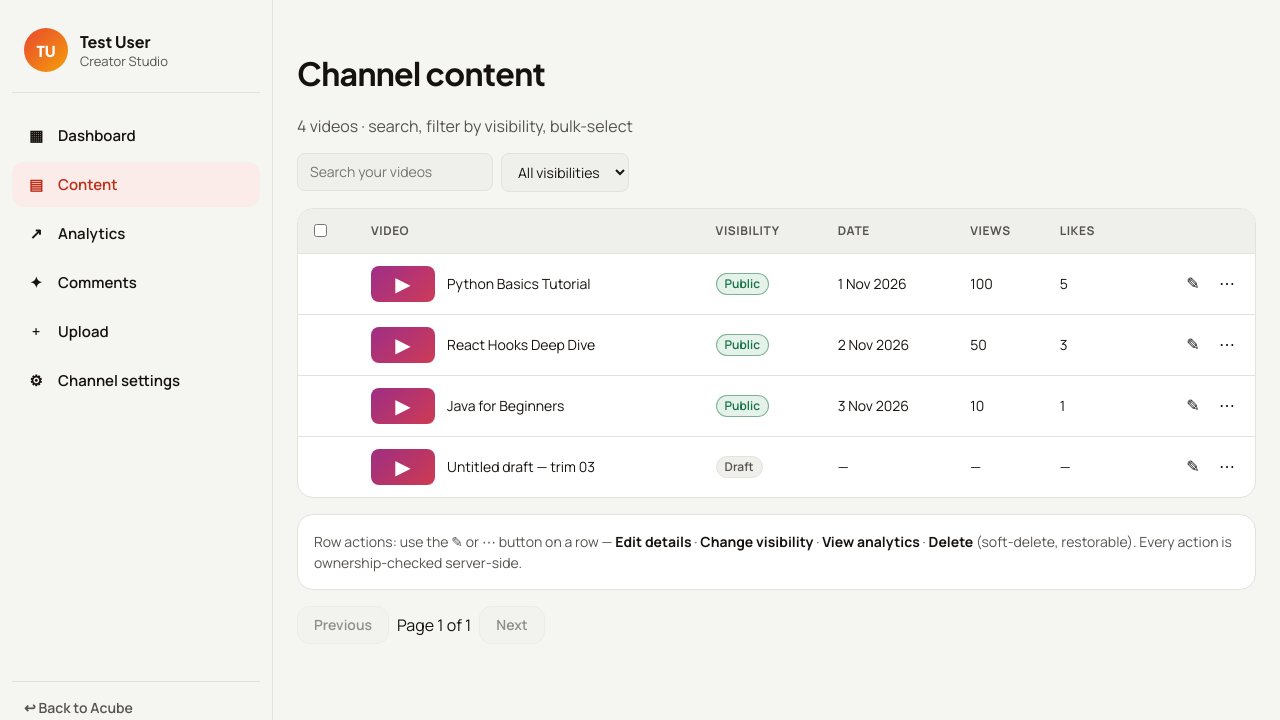
Test: Edit details thumbnail upload › keeps the URL input and adds a file picker + preview area
This screenshot has width=1280, height=720.
Expected: the link "Python Basics Tutorial" is shown, [447, 274, 591, 293]
Click the button named "Row actions for Python Basics Tutorial".
click(1193, 284)  # box [1177, 268, 1209, 300]
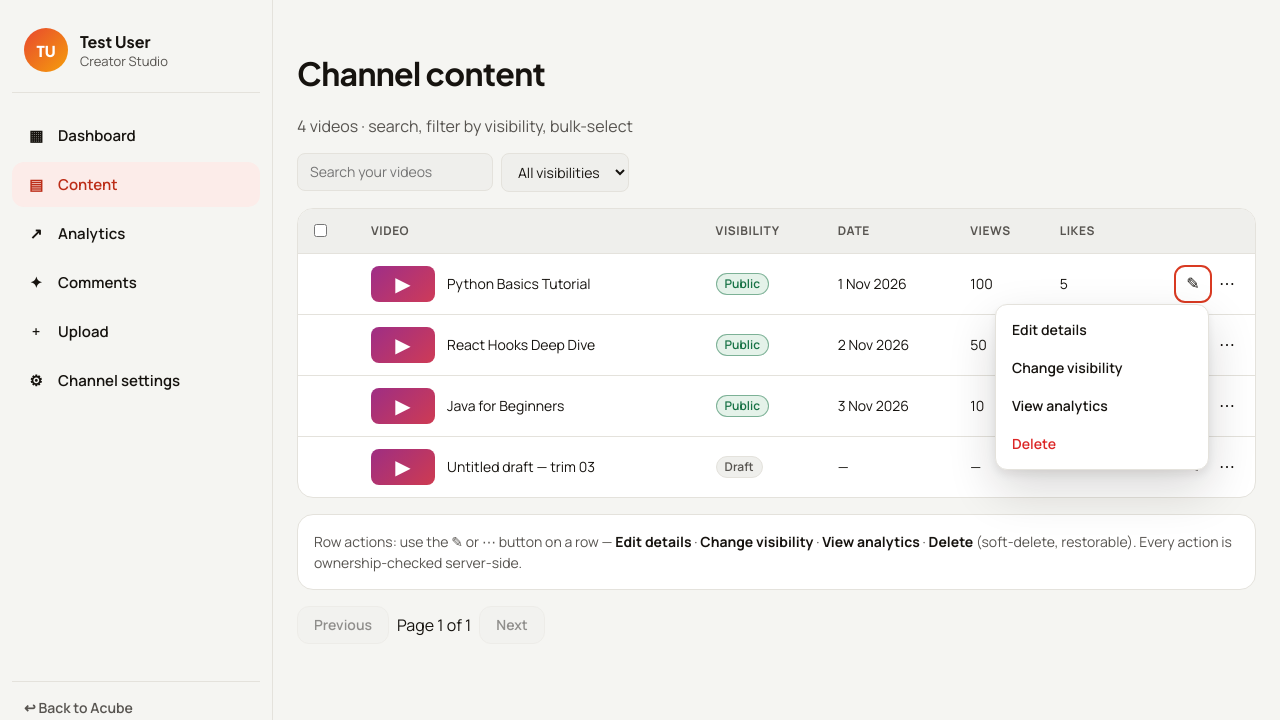
Click the menu item "Edit details".
click(1102, 330)  # box [1002, 311, 1202, 349]
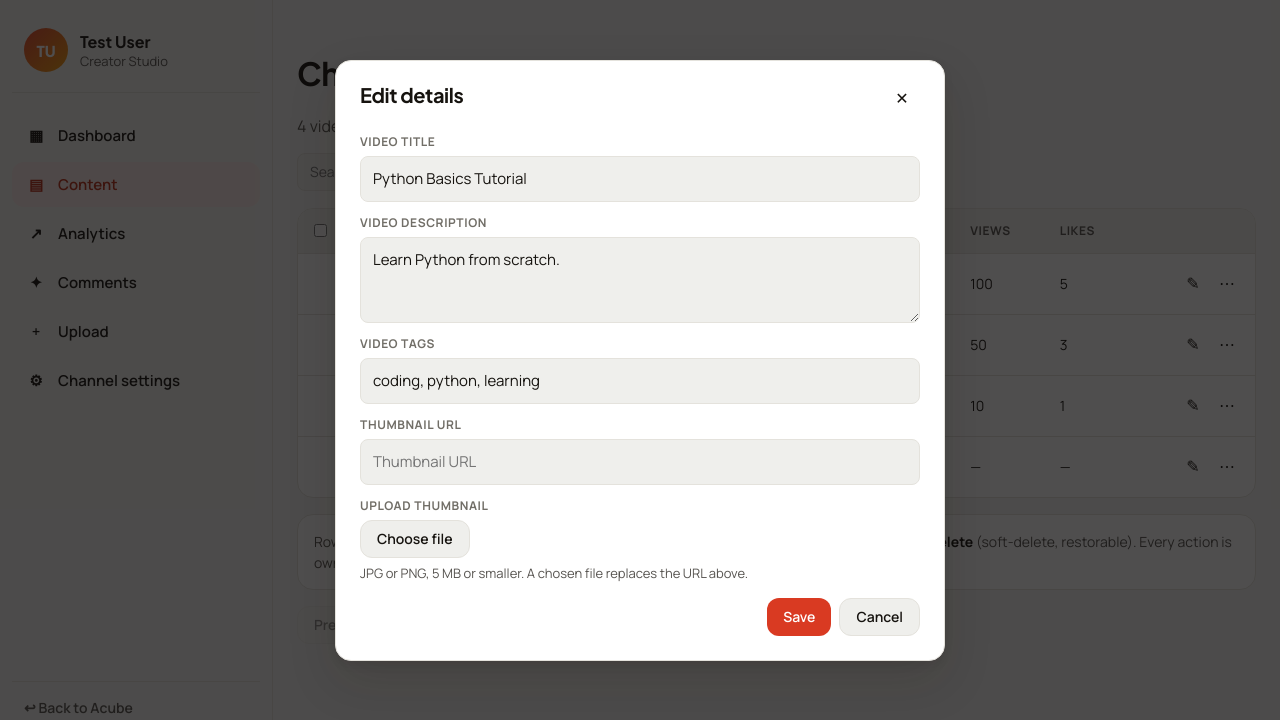
Expected: the field labelled "Thumbnail URL" is shown, [360, 438, 920, 484]
Expected: the file field named "Upload thumbnail image" is shown, [360, 520, 470, 558]
Expected: the text "JPG or PNG, 5 MB or smaller. A chosen file replaces the URL above." is shown, [360, 564, 748, 582]
